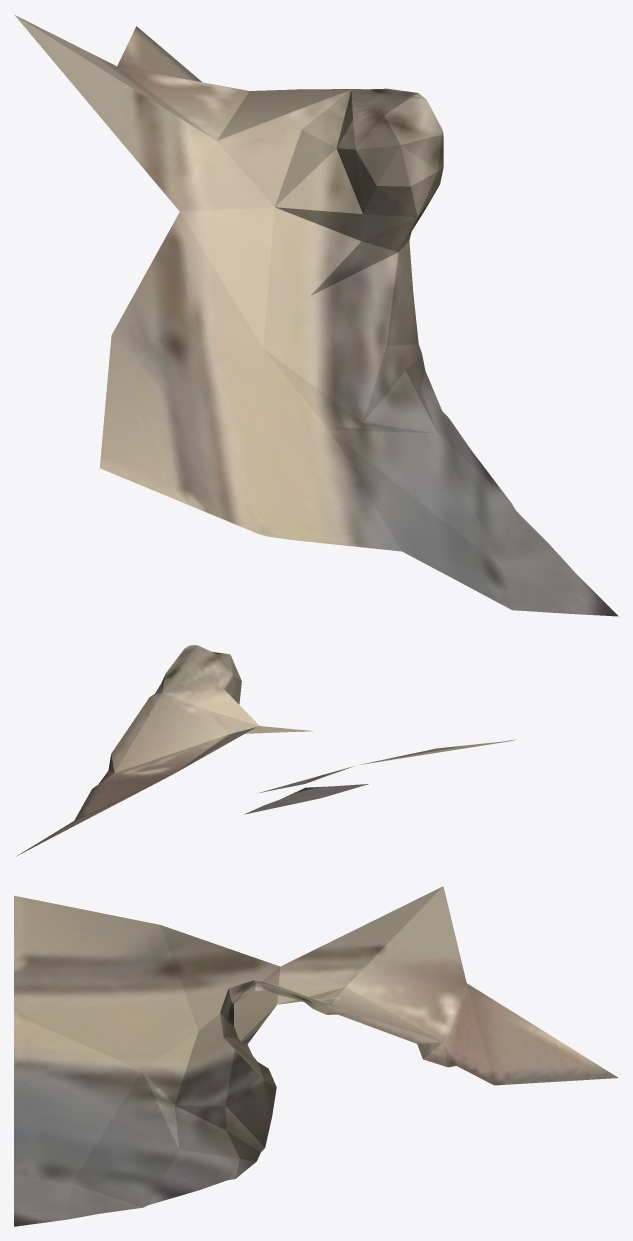
3 renders of one model, top to bottom at view 1: azimuth 30°, elevation 25°; view 2: azimuth 150°, elevation 25°; view 3: azimuth 270°, elevation 25°, orthographic. The views are drawn at different scales.
Bounding box in the file's own units: 1.3 × 0.9919 × 2.09.
1 material, 1 textured.
